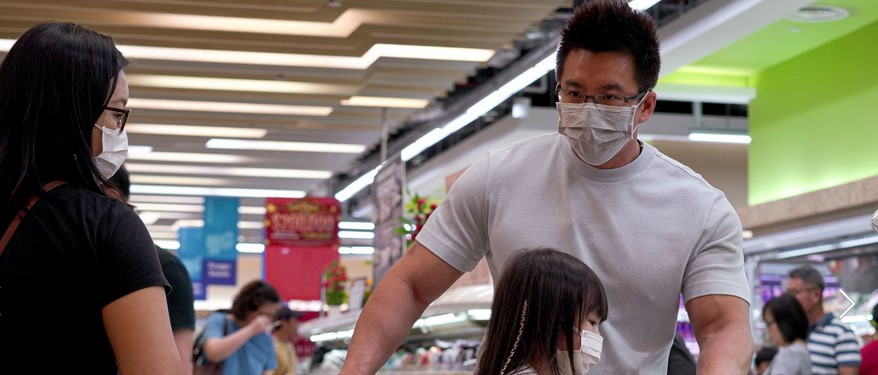face_no_mask: (232, 281, 281, 329), (760, 295, 805, 342), (787, 261, 822, 318)
face_with_mask: (7, 31, 131, 185), (553, 11, 657, 165), (504, 251, 608, 371)
